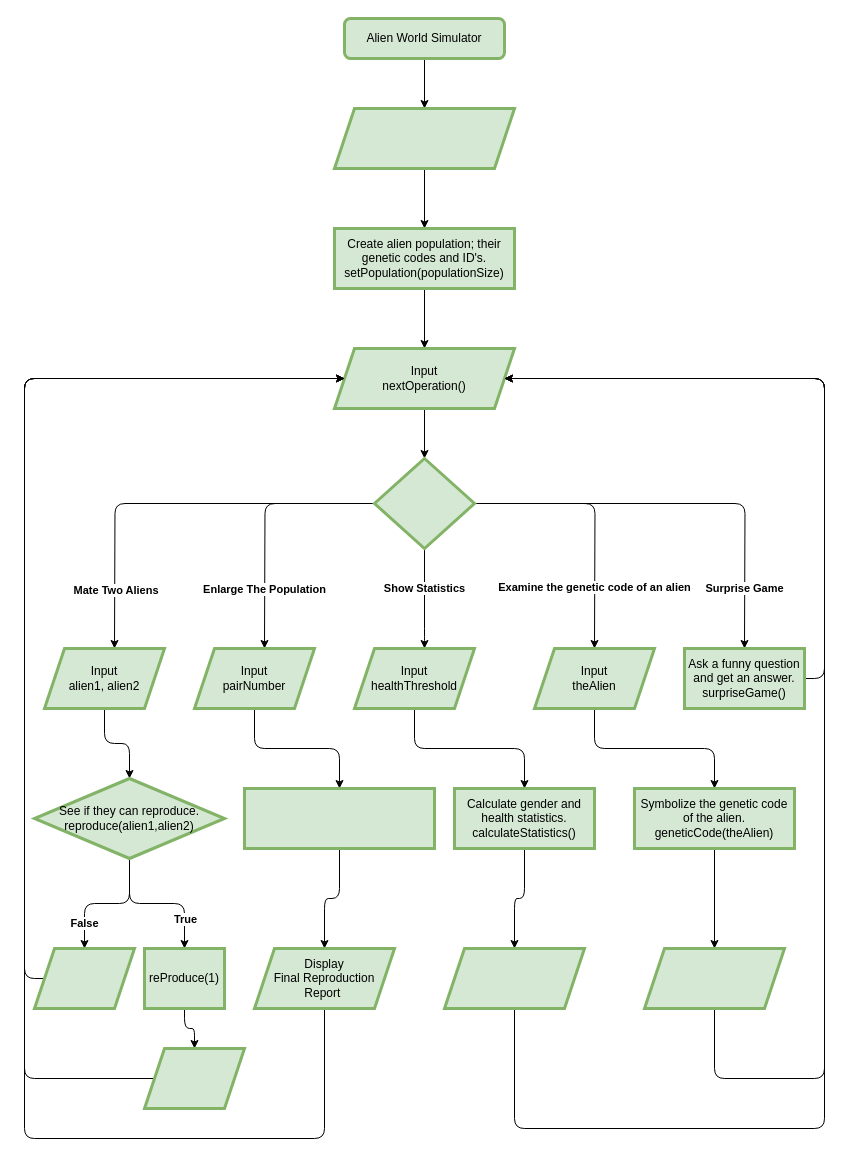
This 850x1164 diagram has some shape labels left out. The centre of each missing label's shape, as x and y in pixels:
"Display Final Failed Reproduction Message" belongs at [84,978].
"Display Final Genetic Code Report" belongs at [714,978].
"Display Final Statistics Calculation Report" belongs at [514,978].
"Display Successful Reproduction Message" belongs at [194,1078].
"Input populationSize" belongs at [424,138].
"nextOperation" belongs at [424,503].
"Select random pairs and see if they can reproduce. enlargePopulation(pairNumber)" belongs at [339,818].
